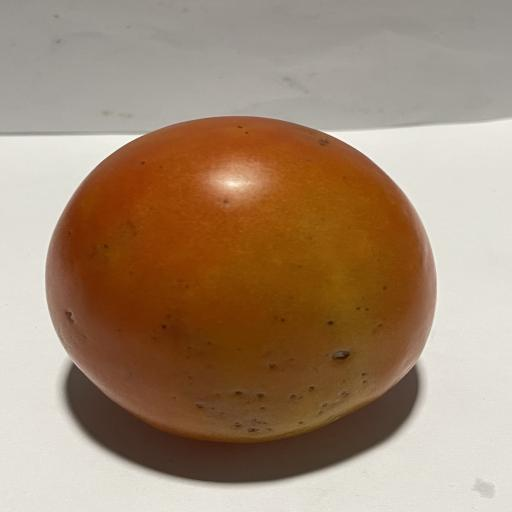unripe: (46, 116, 436, 442)
